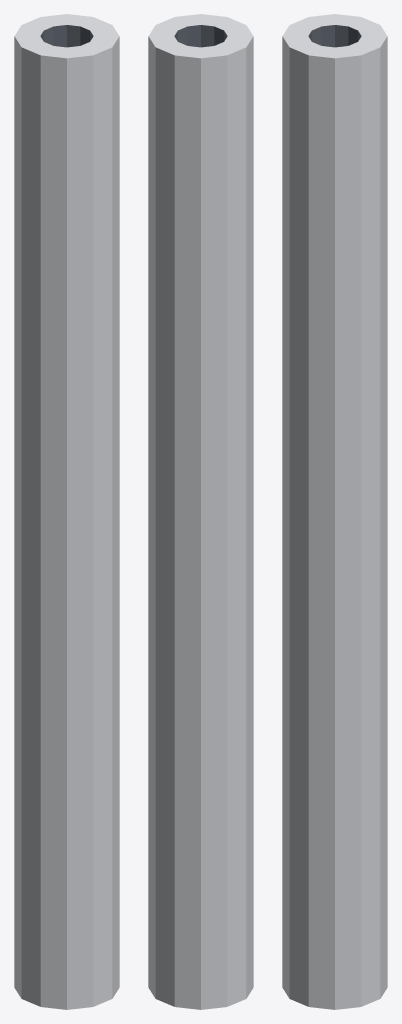
File: 0_CPC_PaperTube.fbx
The picture shows the model from 3 angles, left to right: view 1: azimuth 90°, elevation 25°; view 2: azimuth 210°, elevation 25°; view 3: azimuth 270°, elevation 25°; orthographic projection.
Parts seen in each view (by area): view 1: Circle.016; view 2: Circle.016; view 3: Circle.016.
Boxes of the visible parts, x1,y1,x2,y2 form: Circle.016: [14, 14, 119, 1009]; Circle.016: [148, 14, 253, 1009]; Circle.016: [282, 14, 387, 1009].
Size of the model in its own units: 5 by 5 by 50.
